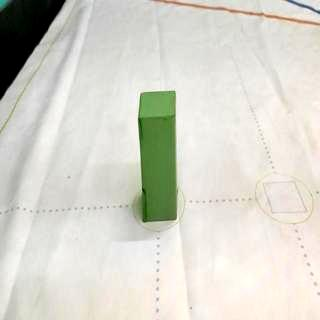greenbox: (136, 88, 178, 224)
